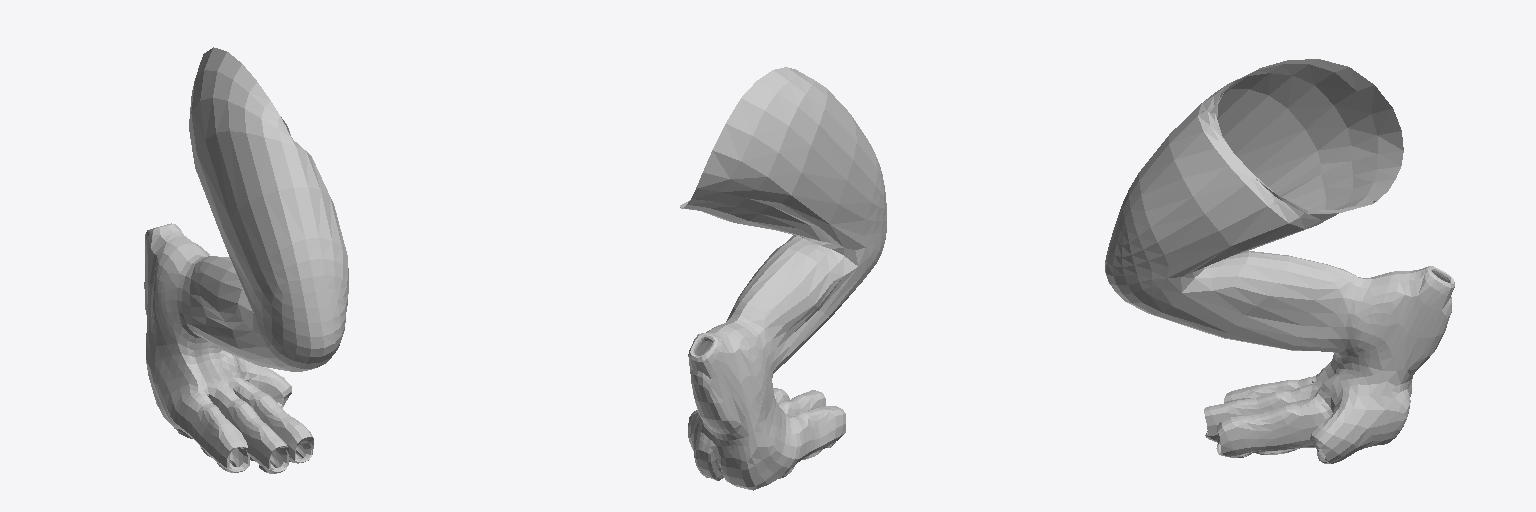
Rendered from jambe_droite_arriere.obj.
The picture shows the model from 3 angles: view 1: azimuth 30°, elevation 25°; view 2: azimuth 150°, elevation 25°; view 3: azimuth 270°, elevation 25°; orthographic projection.
Visible parts, largest first — view 1: Cube.001_Cube.006; view 2: Cube.001_Cube.006; view 3: Cube.001_Cube.006.
Part boxes in pixels (x1,y1,x2,y2): Cube.001_Cube.006: (144,47,348,473); Cube.001_Cube.006: (680,67,886,490); Cube.001_Cube.006: (1105,59,1454,463).
Bounding box in the file's own units: 0.9216 × 3.01 × 2.48.